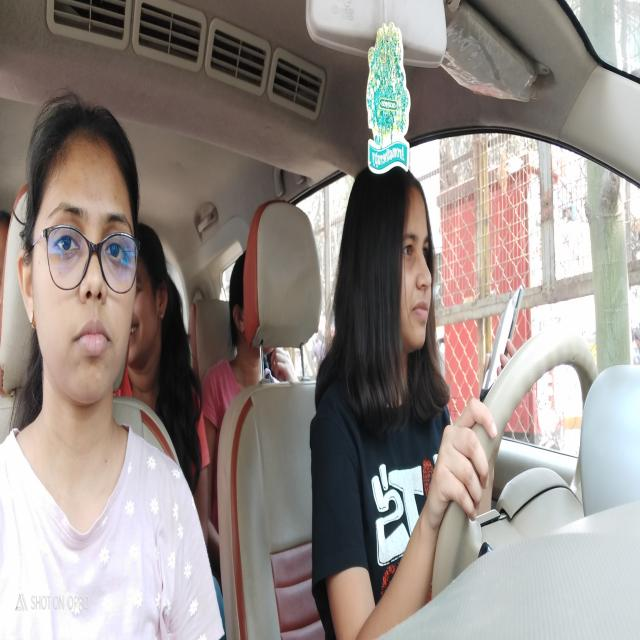mobile: (482, 286, 524, 392)
person: (33, 91, 134, 414), (342, 167, 440, 370), (224, 252, 290, 382), (131, 230, 169, 374)
